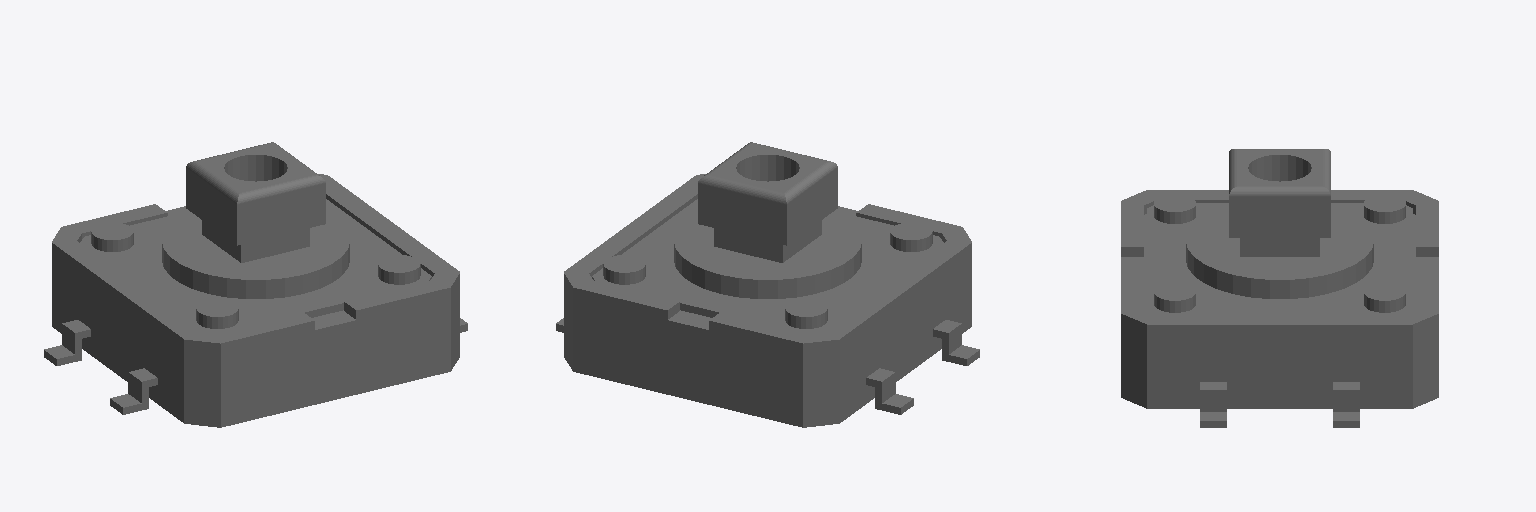
3 views of the same model, side by side, from view 1: azimuth 30°, elevation 25°; view 2: azimuth 150°, elevation 25°; view 3: azimuth 270°, elevation 25° (orthographic).
Parts seen in each view (by area): view 1: b3fs-4052p_1; view 2: b3fs-4052p_1; view 3: b3fs-4052p_1.
Part boxes in pixels (bbox=[...]): b3fs-4052p_1: bbox=[44, 142, 467, 427]; b3fs-4052p_1: bbox=[556, 142, 979, 427]; b3fs-4052p_1: bbox=[1121, 149, 1438, 427].
Size of the model in its own units: 15 by 7.3 by 12.